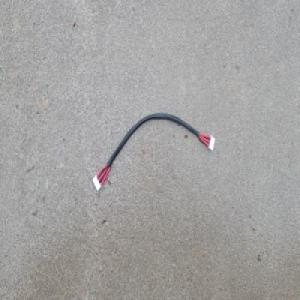Wire: (90, 110, 217, 194)
